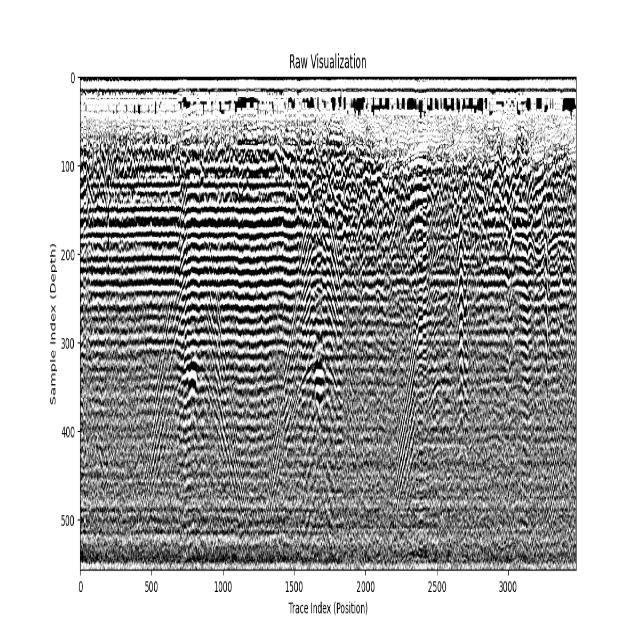anomaly: (144, 151, 251, 559), (269, 154, 350, 555), (480, 168, 562, 396), (402, 163, 431, 556), (455, 175, 470, 438)
